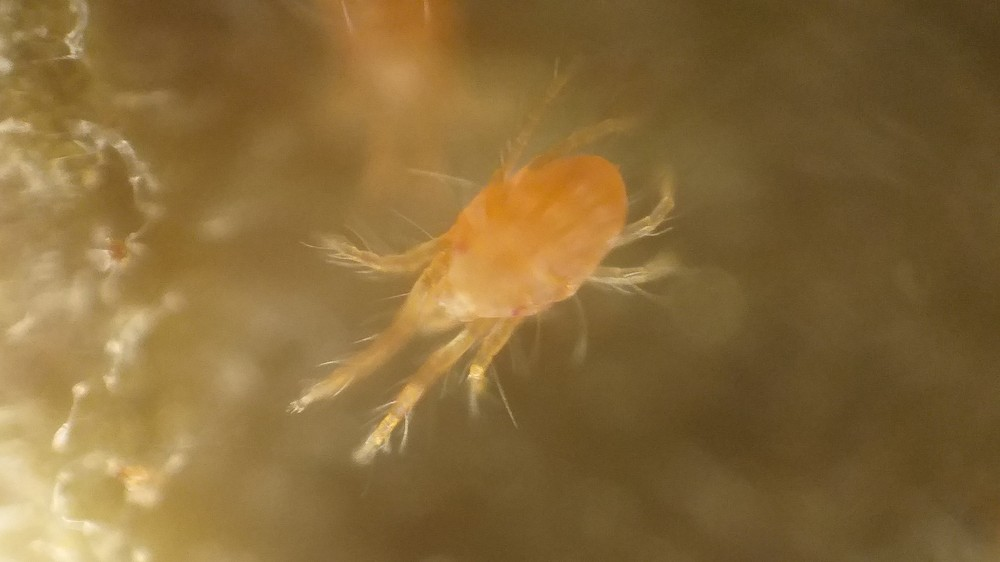Aracnido Rojo: (284, 78, 708, 476)
